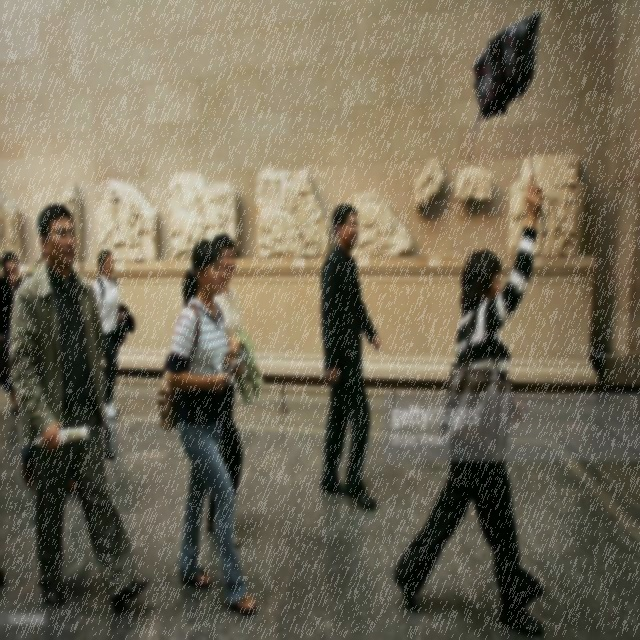pessoa: (387, 165, 555, 640), (7, 198, 154, 620), (166, 238, 259, 618), (313, 200, 384, 514), (205, 228, 253, 552), (92, 248, 126, 420), (0, 250, 23, 416), (18, 253, 44, 282)
